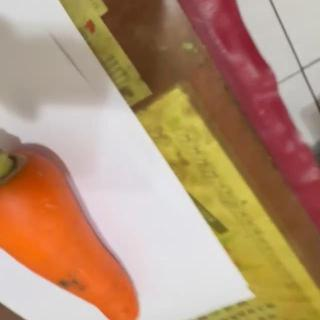carrot: (0, 146, 140, 320)
